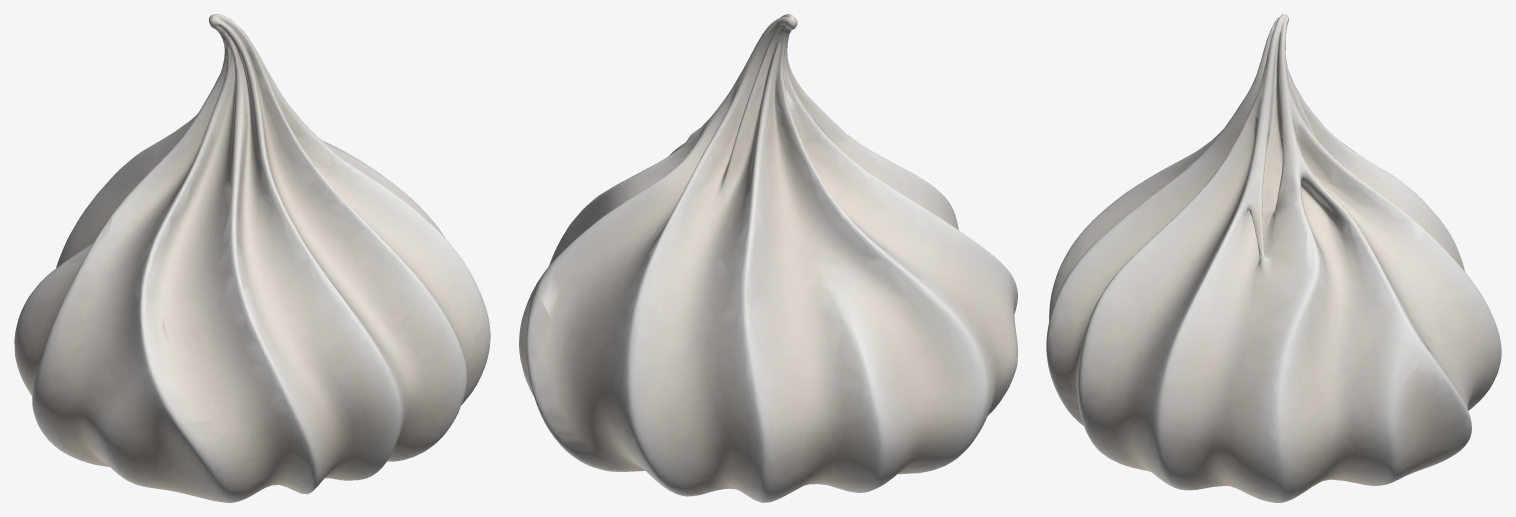
The model's file is bk-decor-meringue-kiss.glb.
The picture shows the model from 3 angles, left to right: view 1: azimuth 30°, elevation 25°; view 2: azimuth 150°, elevation 25°; view 3: azimuth 270°, elevation 25°; orthographic projection. The views are drawn at different scales.
Visible parts, largest first — view 1: node_0; view 2: node_0; view 3: node_0.
Part boxes in pixels (x1,y1,x2,y2): node_0: (14, 14, 490, 502); node_0: (519, 14, 1017, 502); node_0: (1046, 14, 1501, 502).
Bounding box in the file's own units: 0.9864 × 0.9234 × 0.9384.
1 material, 1 textured.
